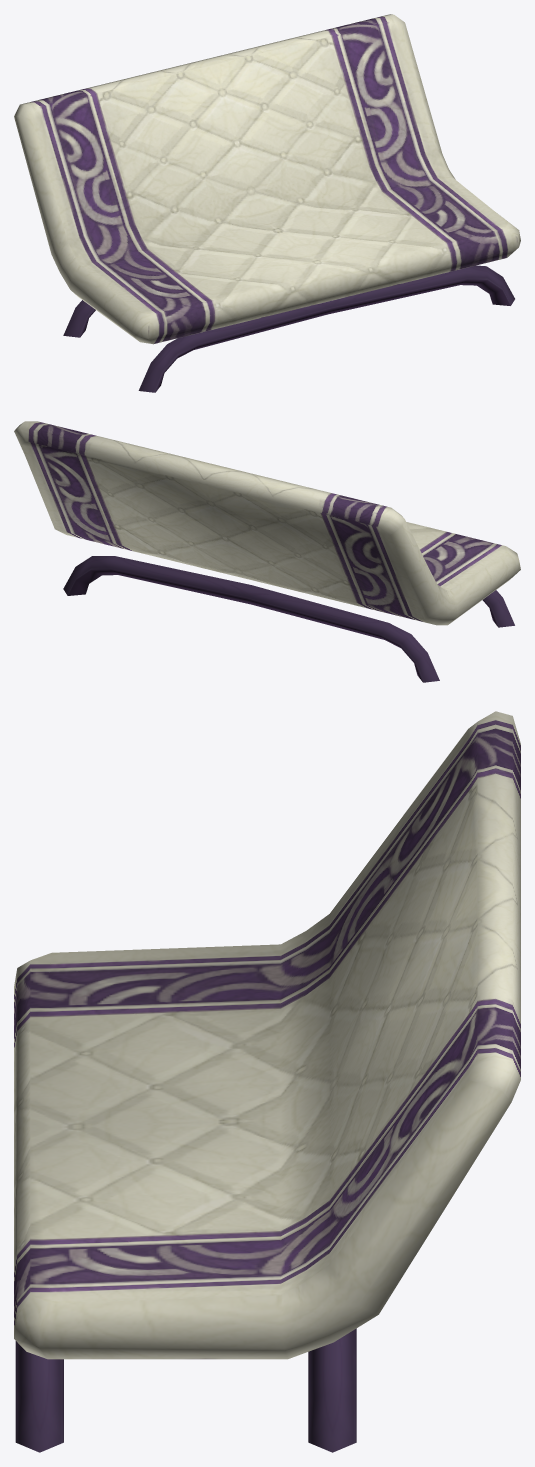
File: wz_chuang.FBX
3 views of the same model, one above another, from view 1: azimuth 30°, elevation 25°; view 2: azimuth 150°, elevation 25°; view 3: azimuth 270°, elevation 25° (orthographic). The views are drawn at different scales.
Parts seen in each view (by area): view 1: wz_chuang; view 2: wz_chuang; view 3: wz_chuang.
Part boxes in pixels (x1,y1,x2,y2): wz_chuang: (14,14,520,392); wz_chuang: (14,421,520,682); wz_chuang: (14,711,520,1452).
Bounding box in the file's own units: 6.71 × 3.3 × 3.91.
